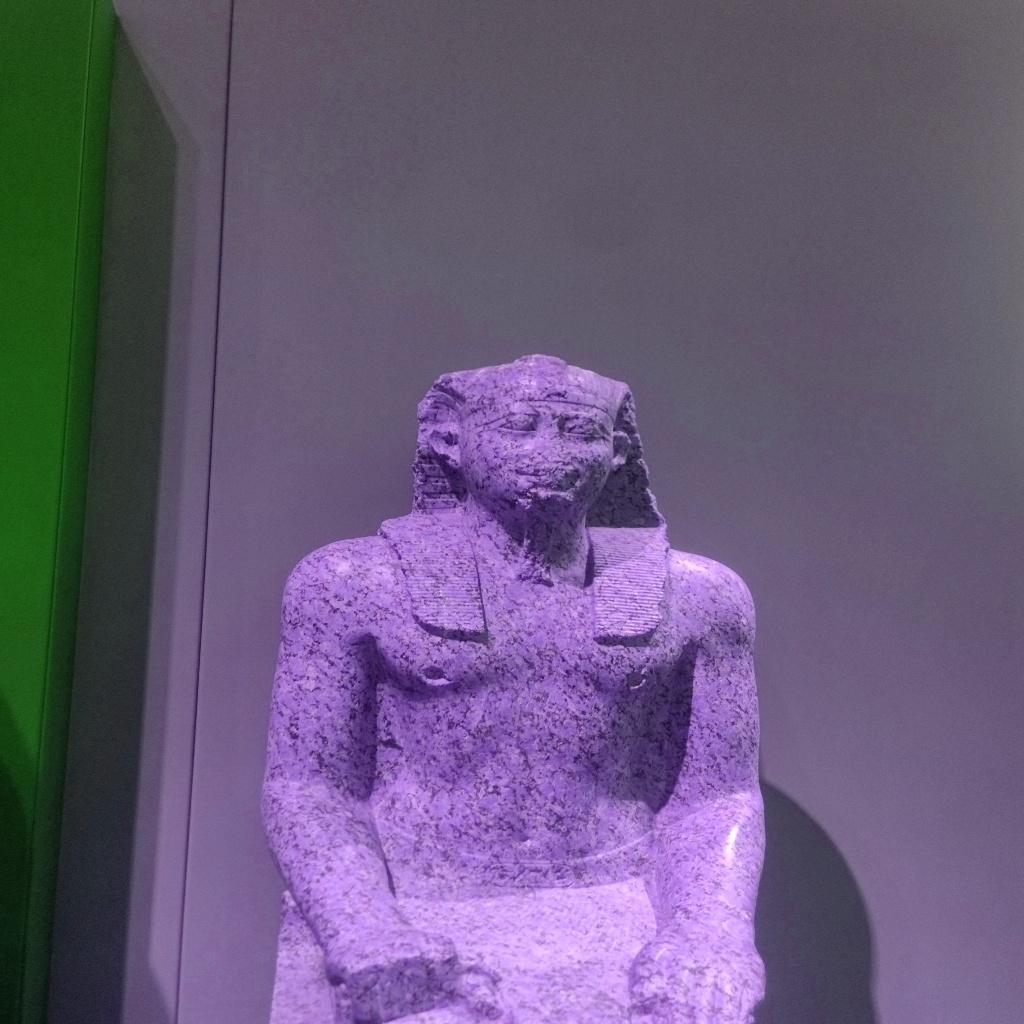Statue of Amenmhat I: (257, 352, 772, 1022)
